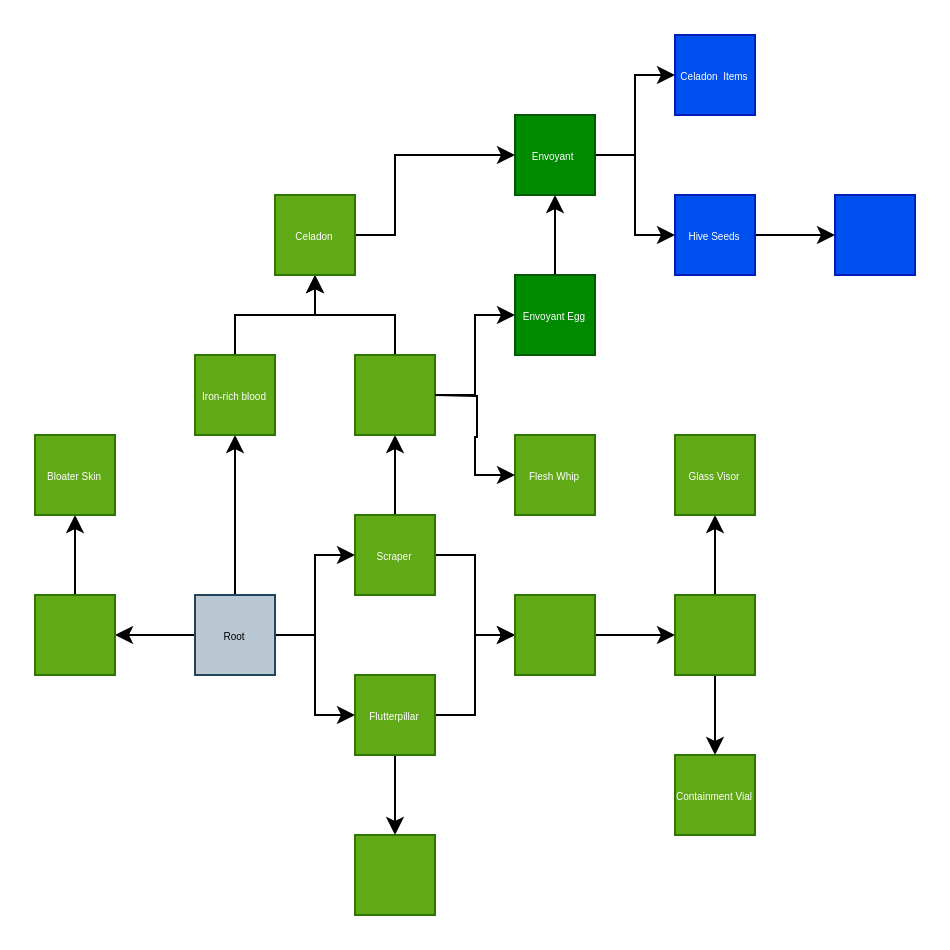
The diagram is 950 pixels wide and 950 high, and some of its shapes have lost their labels. The shapes that lost their labels are listed below. From the top down, each one's box as (x1, y1, x2, y2) in pixels, then its label:
(833, 193, 915, 275): HIve
(353, 353, 435, 435): Fleshy Tentacle
(33, 593, 115, 675): Bloater
(513, 593, 595, 675): Iris
(673, 593, 755, 675): Symbiotic Glass
(353, 833, 435, 915): Flutterfly
